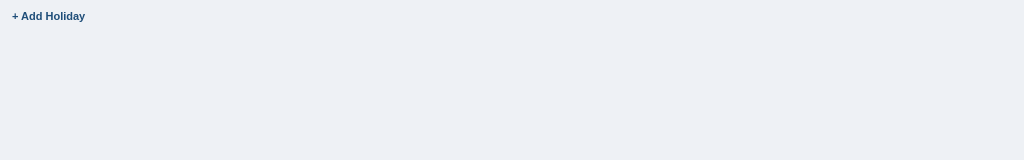
Test case: HolidayColumn › saves a new single-day holiday with no Range/Custom color unchecked
Later steps or results of the test are not shown.
Click the button "+ Add Holiday": [49, 16] box 8,6 -> 89,26
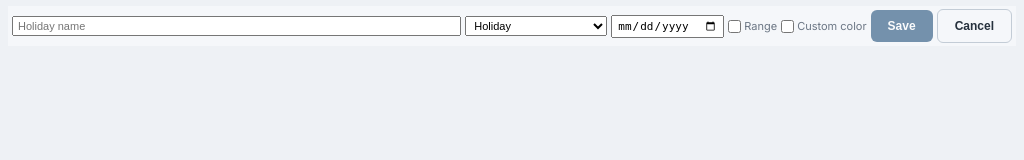
In the field with placeholder "Holiday name": [237, 26] box 12,16 -> 461,36, type "Republic Day"
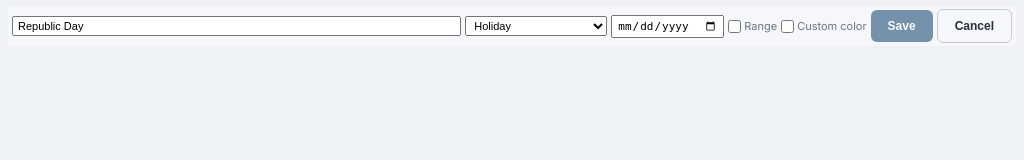
In the date field: [668, 26] box 611,14 -> 724,38, type "2027-01-26"
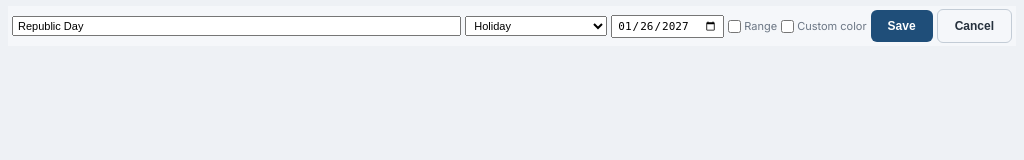
Now the number of date fields is 1, box 611,14 -> 724,38
